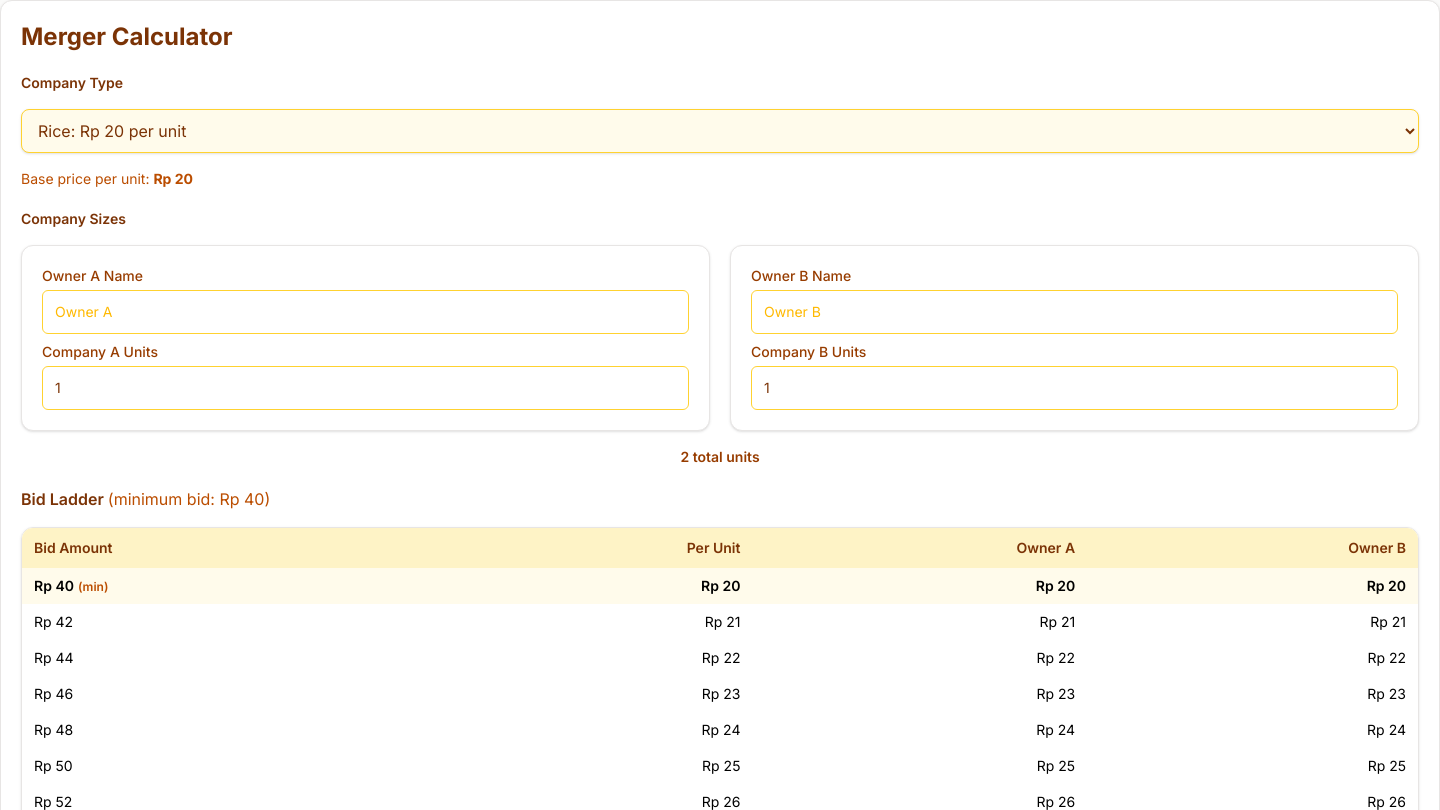
MergerCalculator › size inputs › shows total units calculation
Replace the text in the number field labelled "Company A Units" with "5" at (366, 388), box [42,366,689,410]
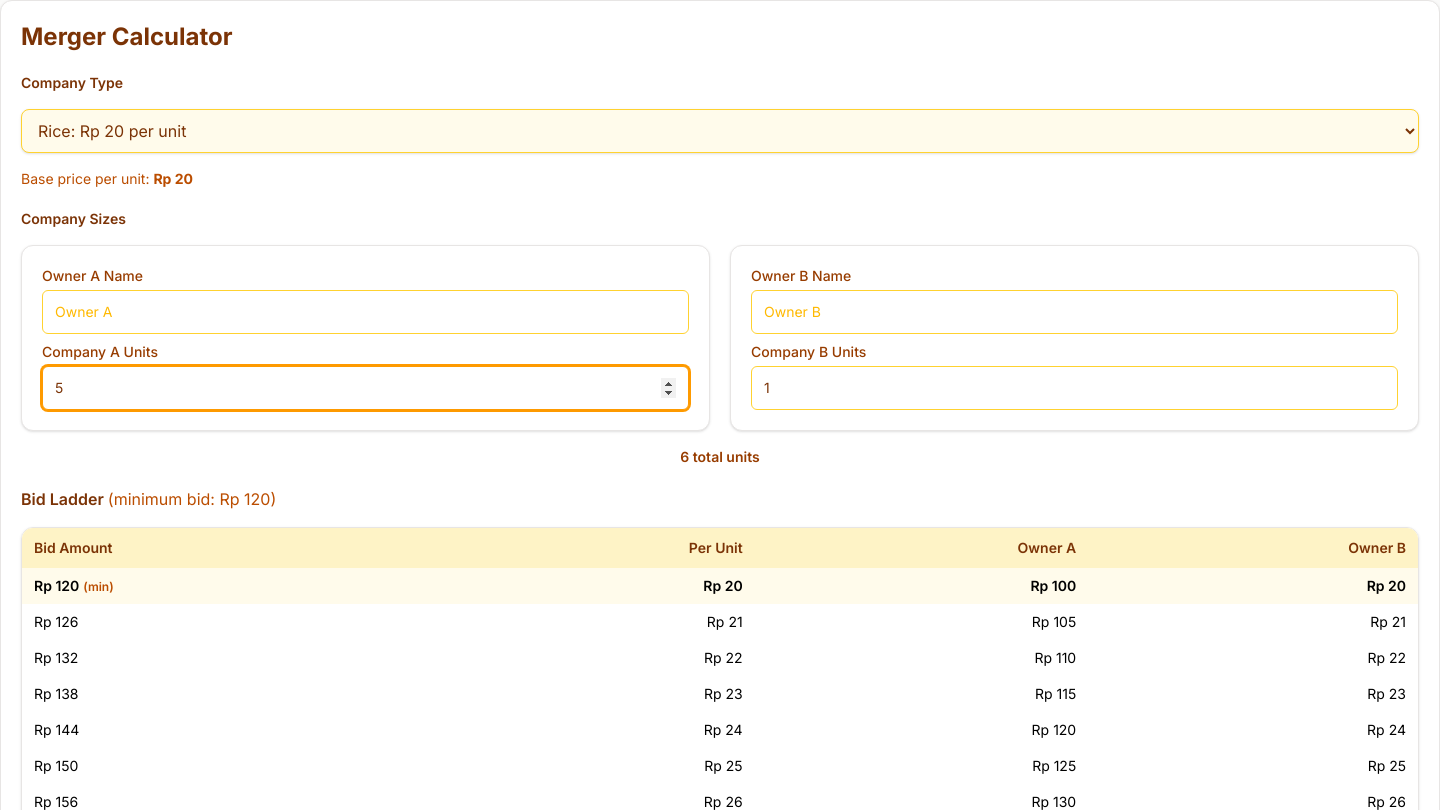
Replace the text in the number field labelled "Company B Units" with "3" at (1074, 388), box [751,366,1398,410]
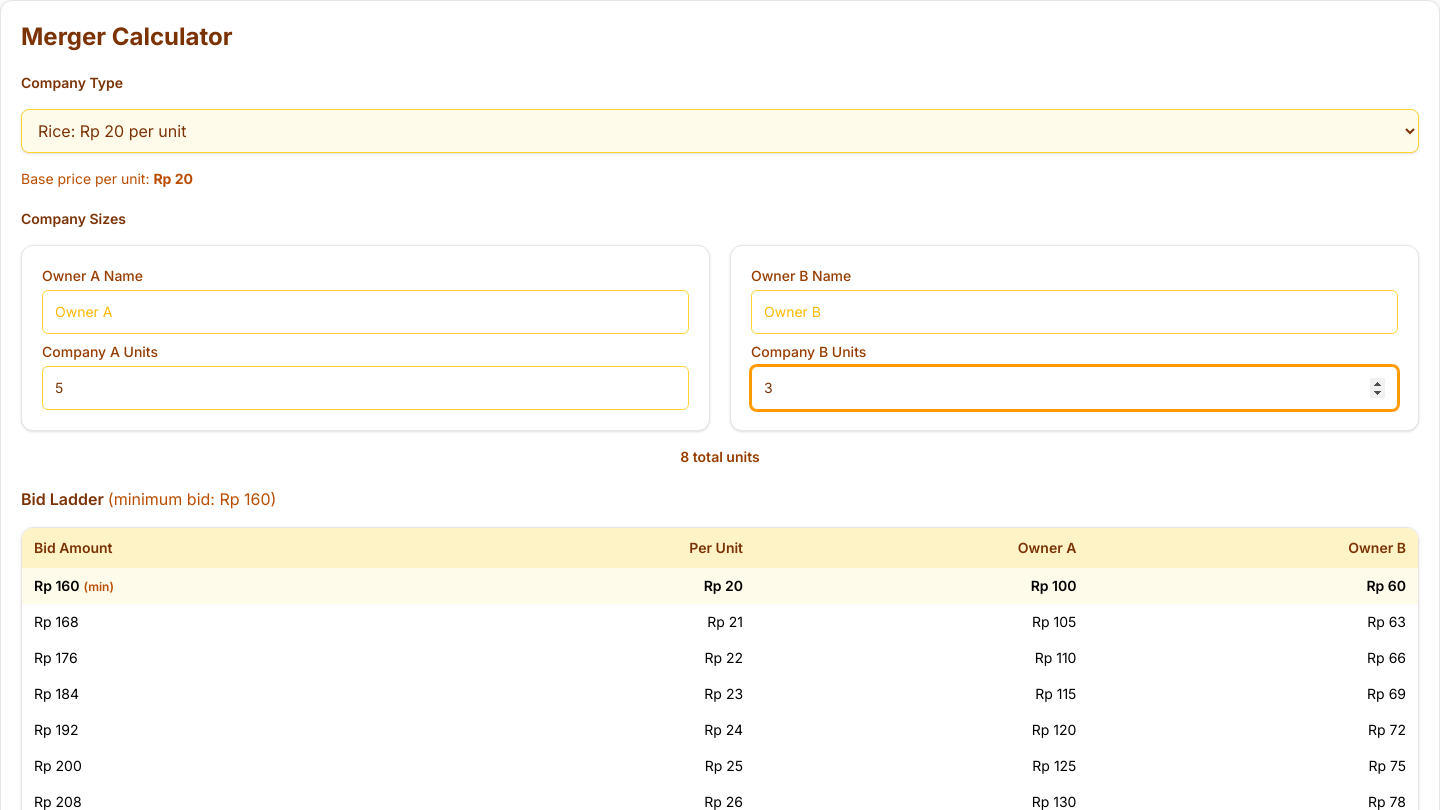
Result: the text "8 total units" is shown at [680,448,760,465]
